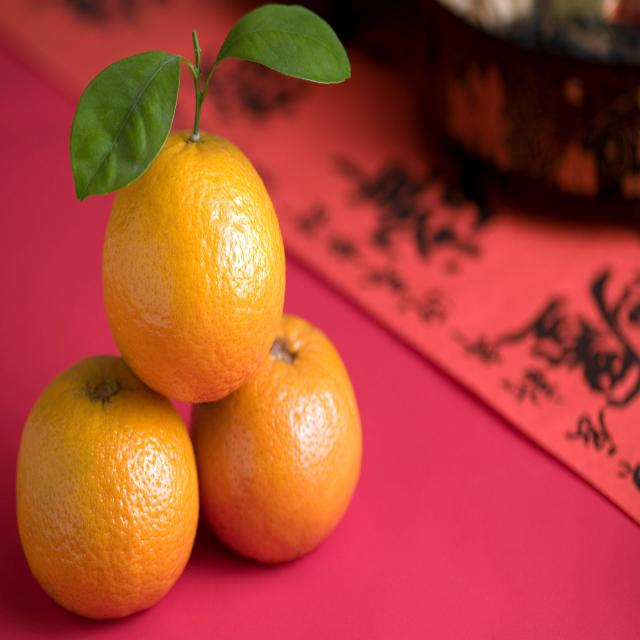Orange: (16, 351, 199, 621), (98, 137, 284, 400), (198, 318, 362, 564)
